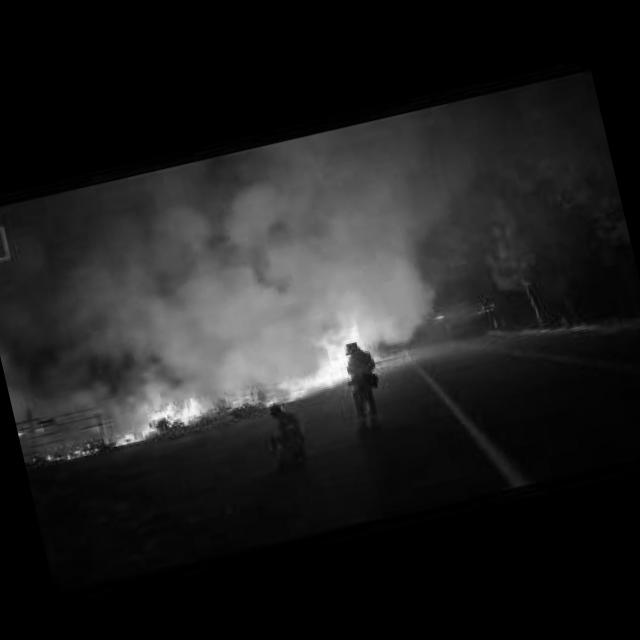fire: (268, 316, 374, 402), (148, 388, 209, 430), (44, 442, 98, 464), (114, 425, 152, 448), (17, 428, 24, 436)
smoke: (71, 121, 459, 403)
